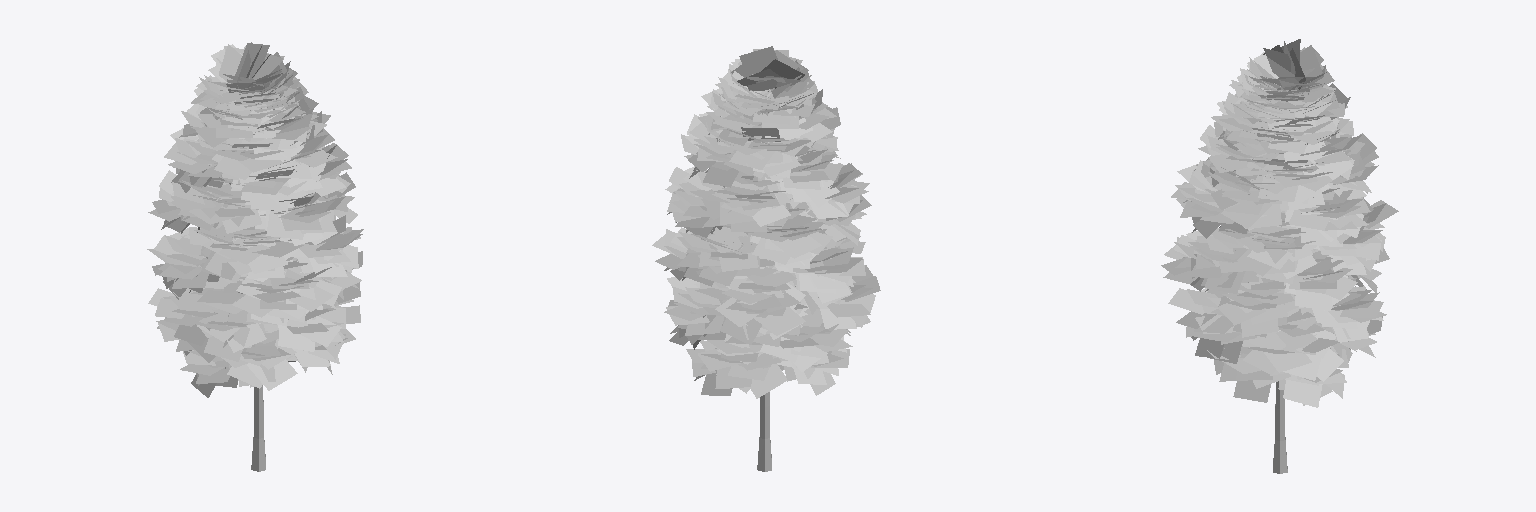
Rendered from TRE1A0.obj.
3 renders of one model, left to right at view 1: azimuth 30°, elevation 25°; view 2: azimuth 150°, elevation 25°; view 3: azimuth 270°, elevation 25°, orthographic.
Visible parts, largest first — view 1: coniferous_tree_1_coniferous_tree_bough_coniferous_tree_bough.00; view 2: coniferous_tree_1_coniferous_tree_bough_coniferous_tree_bough.00; view 3: coniferous_tree_1_coniferous_tree_bough_coniferous_tree_bough.00.
Boxes of the visible parts, x1=… form: coniferous_tree_1_coniferous_tree_bough_coniferous_tree_bough.00: x1=147, y1=42, x2=363, y2=471; coniferous_tree_1_coniferous_tree_bough_coniferous_tree_bough.00: x1=652, y1=46, x2=880, y2=471; coniferous_tree_1_coniferous_tree_bough_coniferous_tree_bough.00: x1=1161, y1=39, x2=1398, y2=473.
Bounding box in the file's own units: 25.5 × 50.55 × 25.61.